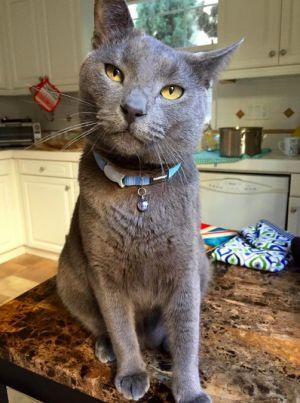rblue: (66, 1, 239, 189)
